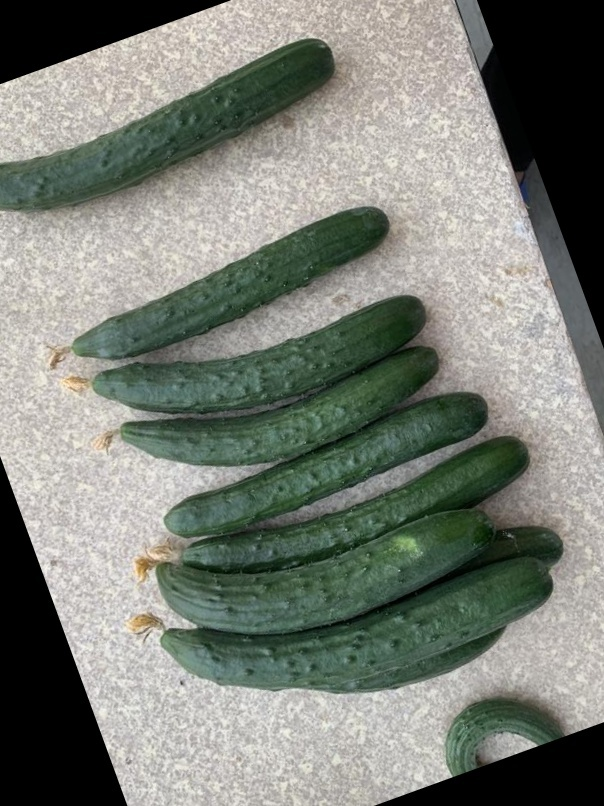mature: (0, 33, 336, 208), (64, 202, 392, 357), (153, 562, 545, 687), (164, 384, 497, 531), (92, 290, 428, 411), (114, 342, 443, 463), (151, 520, 497, 631)
